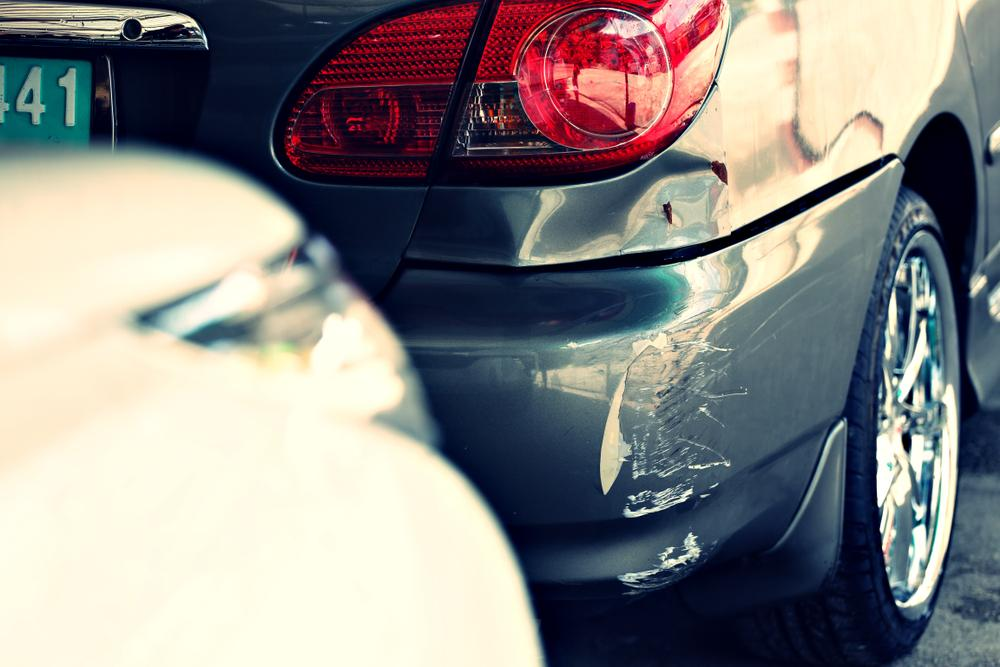dent: (520, 149, 723, 265)
scratch: (566, 291, 755, 597)
